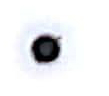cancer: (9, 17, 85, 83)
